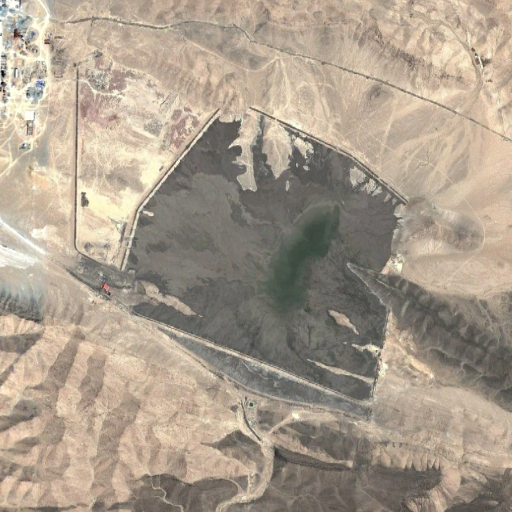tp: (118, 108, 408, 401)
